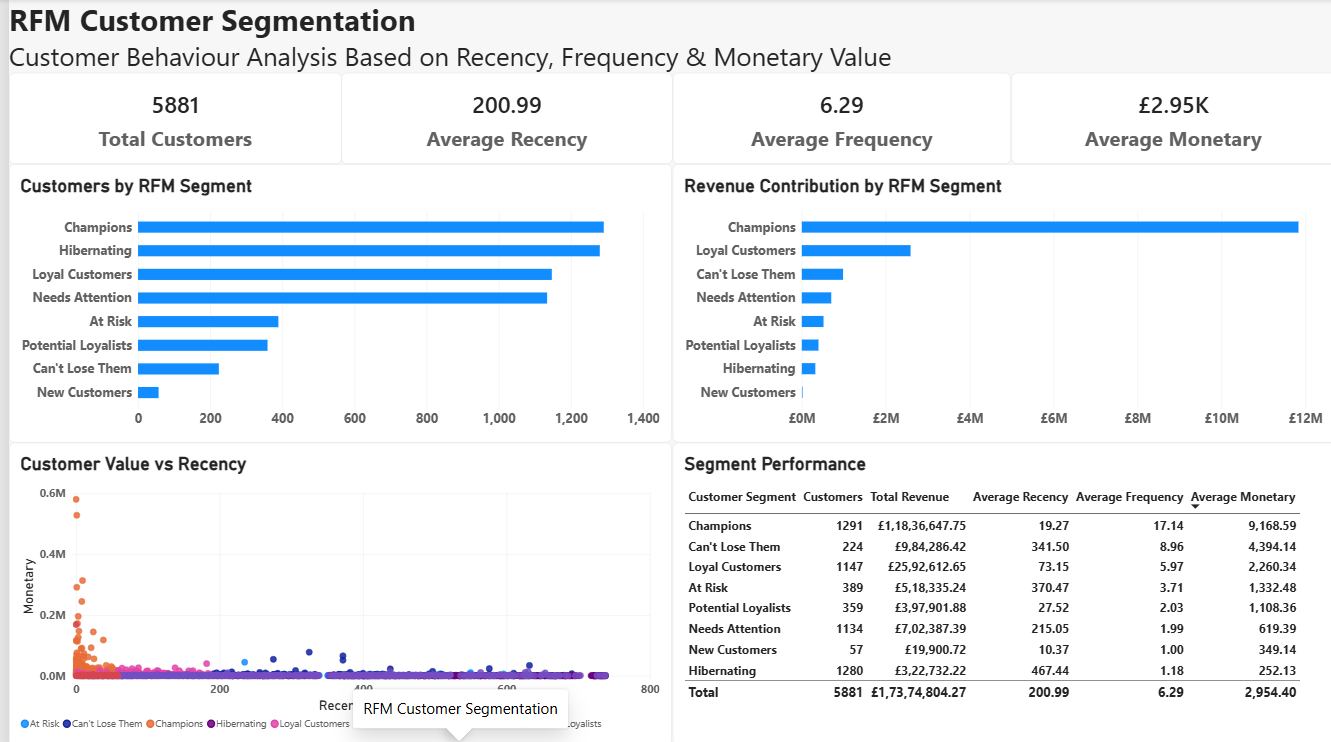

Layout of this report page (visuals, bound fields, positions):
{"tool":"powerbi","page":{"name":"RFM Customer Segmentation","canvas":[1920,1080],"ordinal":1},"visuals":[{"type":"textbox","box":[0,0,1920.4,113.2],"z":0},{"type":"card","fields":{"Values":["customer_rfm_analysis.Total Customers"]},"box":[0,107,481.6,131.7],"z":1},{"type":"card","fields":{"Values":["Avg(customer_rfm_analysis.Recency)"]},"box":[481.4,106.8,479.6,132.1],"z":2},{"type":"card","fields":{"Values":["Avg(customer_rfm_analysis.Frequency)"]},"box":[961.2,107,489.9,131.7],"z":3},{"type":"card","fields":{"Values":["Avg(customer_rfm_analysis.Monetary)"]},"box":[1451.1,107,469.3,131.7],"z":4},{"type":"clusteredBarChart","title":"Customers by RFM Segment","fields":{"Category":["customer_rfm_analysis.Customer_Segment"],"Y":["Count(customer_rfm_analysis.Customer ID)"]},"box":[0,238.8,959.2,403.4],"z":5},{"type":"clusteredBarChart","title":"Revenue Contribution by RFM Segment","fields":{"Category":["customer_rfm_analysis.Customer_Segment"],"Y":["customer_rfm_analysis.Total Revenue"]},"box":[961.2,238.8,959,403],"z":6},{"type":"scatterChart","title":"Customer Value vs Recency","fields":{"Series":["ecommerce_sales_data.Customer_Segment"],"X":["customer_rfm_analysis.Recency"],"Y":["customer_rfm_analysis.Monetary"]},"box":[0,642.2,959.2,438.4],"z":7},{"type":"tableEx","title":"Segment Performance","fields":{"Values":["customer_rfm_analysis.Customer_Segment","customer_rfm_analysis.Customer ID","customer_rfm_analysis.Total Revenue","customer_rfm_analysis.Recency","customer_rfm_analysis.Frequency","customer_rfm_analysis.Monetary"]},"box":[960.9,642.4,959.1,437.9],"z":8}]}

Visuals, with their boxes in screenshot pixels (x1, y1, x2, y2), scaled from the page's 1920x1080 canvas onto the 1331x742 screenshot:
textbox: locate(0, 0, 1330, 78)
card - customer_rfm_analysis.Total Customers: locate(0, 74, 334, 164)
card - Avg(customer_rfm_analysis.Recency): locate(334, 73, 666, 164)
card - Avg(customer_rfm_analysis.Frequency): locate(666, 74, 1006, 164)
card - Avg(customer_rfm_analysis.Monetary): locate(1006, 74, 1330, 164)
"Customers by RFM Segment" clusteredBarChart: locate(0, 164, 665, 441)
"Revenue Contribution by RFM Segment" clusteredBarChart: locate(666, 164, 1330, 441)
"Customer Value vs Recency" scatterChart: locate(0, 441, 665, 741)
"Segment Performance" tableEx: locate(666, 441, 1330, 741)
